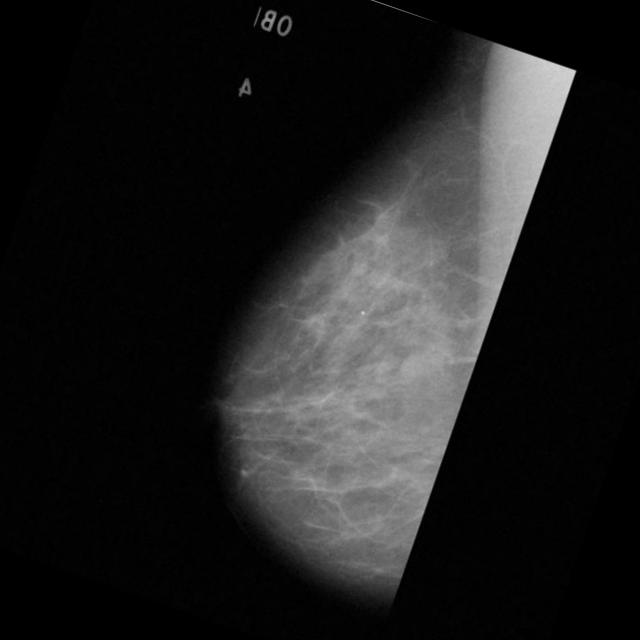CIRC: (400, 349, 432, 381)
